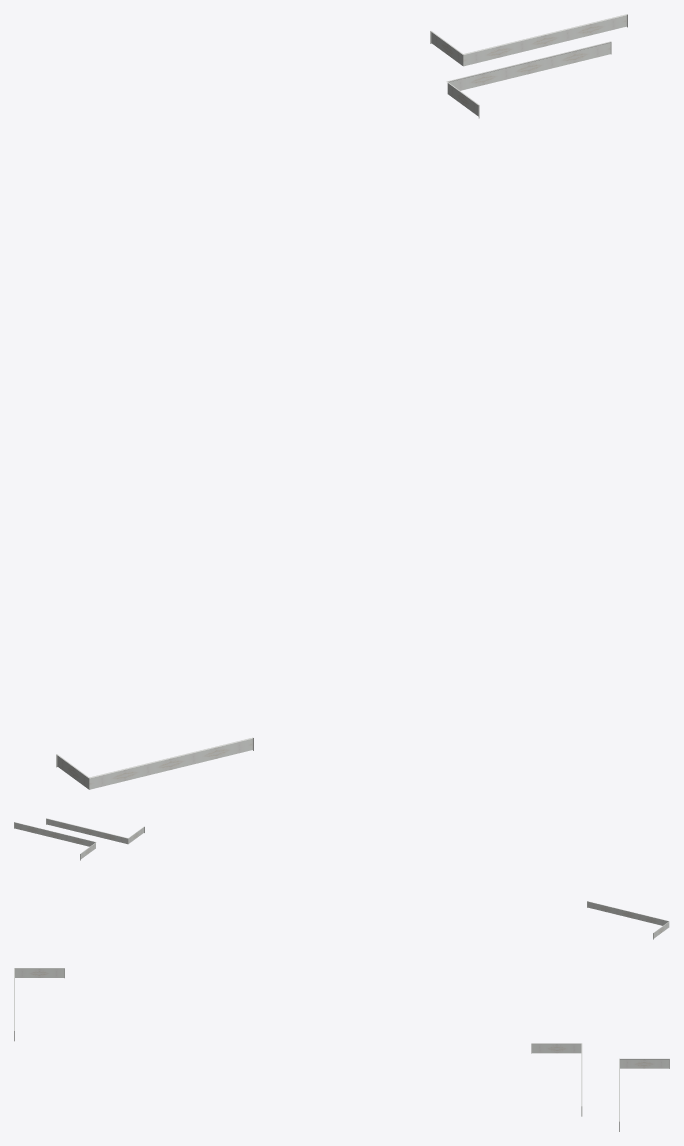
Rendered from BP_Sculpture_Oro.glb.
The picture shows the model from 3 angles, top to bottom: view 1: azimuth 30°, elevation 25°; view 2: azimuth 150°, elevation 25°; view 3: azimuth 270°, elevation 25°; orthographic projection. The views are drawn at different scales.
Parts seen in each view (by area): view 1: Sculpture_Oro.001; view 2: Sculpture_Oro.001; view 3: Sculpture_Oro.001.
Boxes of the visible parts, left/top/right/bottom form: Sculpture_Oro.001: left=56, top=14, right=627, bottom=789; Sculpture_Oro.001: left=14, top=818, right=669, bottom=939; Sculpture_Oro.001: left=14, top=968, right=669, bottom=1131.
Size of the model in its own units: 16.19 by 4.49 by 12.69.
1 material, 1 textured.
